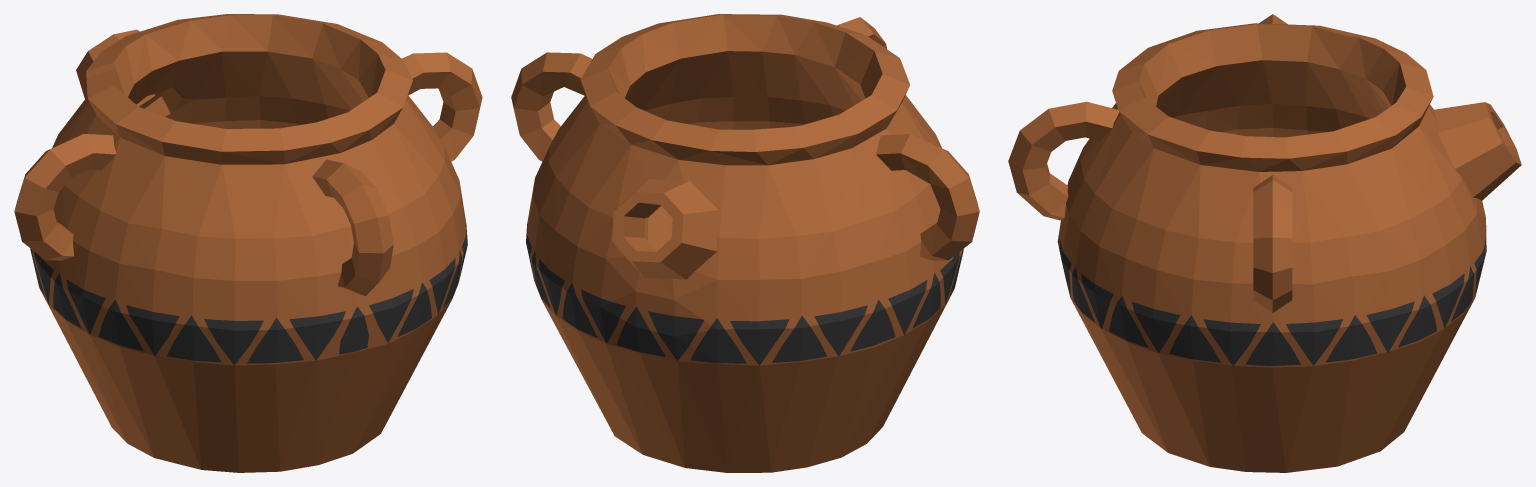
File: Pottery 18_3b.fbx
3 views of the same model, side by side, from view 1: azimuth 30°, elevation 25°; view 2: azimuth 150°, elevation 25°; view 3: azimuth 270°, elevation 25° (orthographic). The views are drawn at different scales.
Parts seen in each view (by area): view 1: Pottery 18_3b.006, Pottery 18_3b, Pottery 18_3b.001, Pottery 18_3b.002, Pottery 18_3b.003, Pottery 18_3b.004; view 2: Pottery 18_3b.004, Pottery 18_3b.002, Pottery 18_3b.005, Pottery 18_3b.006, Pottery 18_3b.003, Pottery 18_3b, Pottery 18_3b.001; view 3: Pottery 18_3b.003, Pottery 18_3b.006, Pottery 18_3b, Pottery 18_3b.004, Pottery 18_3b.002, Pottery 18_3b.001, Pottery 18_3b.005.
Boxes of the visible parts, <box> form: Pottery 18_3b.006: <box>235,70,460,364</box>; Pottery 18_3b: <box>75,197,467,472</box>; Pottery 18_3b.001: <box>114,121,285,361</box>; Pottery 18_3b.002: <box>14,69,175,390</box>; Pottery 18_3b.003: <box>252,14,482,221</box>; Pottery 18_3b.004: <box>59,14,275,132</box>; Pottery 18_3b.004: <box>555,92,817,336</box>; Pottery 18_3b.002: <box>786,74,979,415</box>; Pottery 18_3b.005: <box>555,279,801,421</box>; Pottery 18_3b.006: <box>660,14,886,129</box>; Pottery 18_3b.003: <box>511,22,680,389</box>; Pottery 18_3b: <box>587,206,951,472</box>; Pottery 18_3b.001: <box>835,32,963,248</box>; Pottery 18_3b.003: <box>1157,117,1471,424</box>; Pottery 18_3b.006: <box>1008,64,1209,327</box>; Pottery 18_3b: <box>1071,270,1431,472</box>; Pottery 18_3b.004: <box>1339,35,1521,276</box>; Pottery 18_3b.002: <box>1199,14,1379,137</box>; Pottery 18_3b.001: <box>1119,30,1216,128</box>; Pottery 18_3b.005: <box>1405,254,1485,404</box>.
Bounding box in the file's own units: 91.31 × 63.81 × 88.61.
